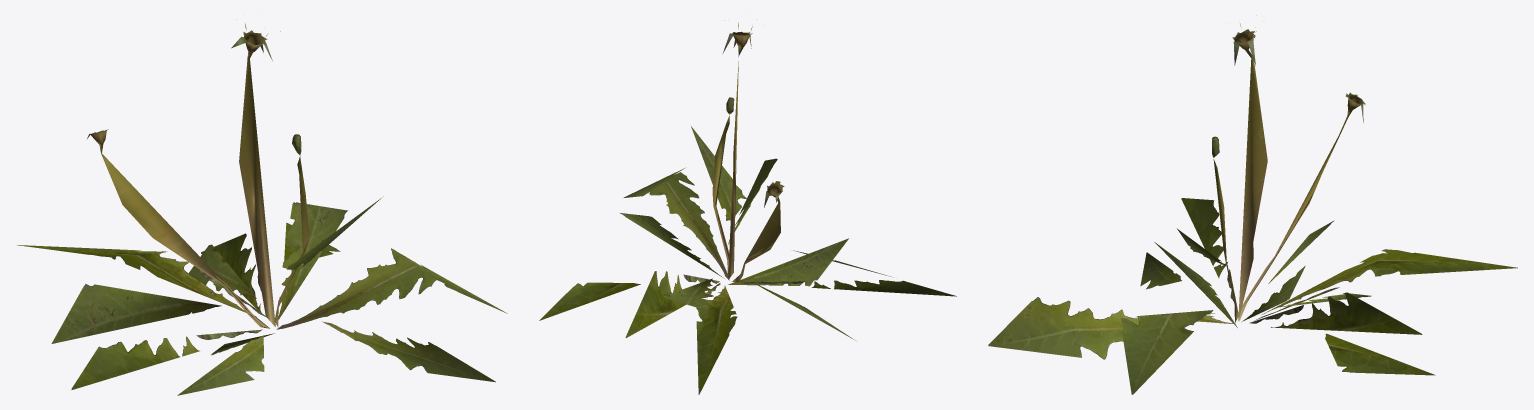
The model's file is dandelion.glb.
3 renders of one model, left to right at view 1: azimuth 30°, elevation 25°; view 2: azimuth 150°, elevation 25°; view 3: azimuth 270°, elevation 25°, orthographic. The views are drawn at different scales.
Parts seen in each view (by area): view 1: lod1; view 2: lod1; view 3: lod1.
Boxes of the visible parts, <box> form: lod1: <box>17,19,507,395</box>; lod1: <box>539,20,956,394</box>; lod1: <box>988,15,1517,394</box>.
Bounding box in the file's own units: 0.3753 × 0.2747 × 0.4393.
Materials: 1 (1 with a texture image).
